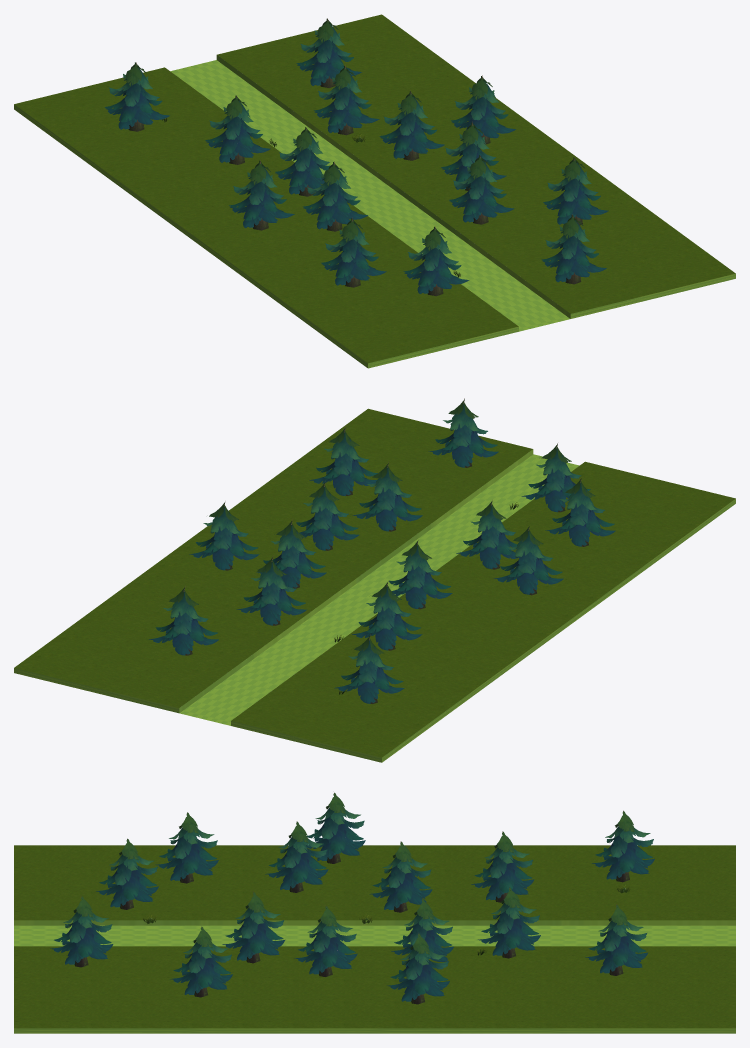
3 renders of one model, top to bottom at view 1: azimuth 30°, elevation 25°; view 2: azimuth 150°, elevation 25°; view 3: azimuth 270°, elevation 25°, orthographic.
Visible parts, largest first — view 1: Box001, Group001, ZJZ_SongShu_007, ZJZ_SongShu_014, ZJZ_SongShu_01, ZJZ_SongShu_009, ZJZ_SongShu_002, ZJZ_SongShu_011, ZJZ_SongShu_012, ZJZ_SongShu_004, ZJZ_SongShu_008, ZJZ_SongShu_005 (+5 smaller); view 2: Box001, Group001, ZJZ_SongShu_014, ZJZ_SongShu_008, ZJZ_SongShu_007, ZJZ_SongShu_011, ZJZ_SongShu_01, ZJZ_SongShu_009, ZJZ_SongShu_015, ZJZ_SongShu_002, ZJZ_SongShu_013, ZJZ_SongShu_010 (+5 smaller); view 3: Box001, Group001, ZJZ_SongShu_006, ZJZ_SongShu_015, ZJZ_SongShu_01, ZJZ_SongShu_008, ZJZ_SongShu_012, ZJZ_SongShu_004, ZJZ_SongShu_013, ZJZ_SongShu_011, ZJZ_SongShu_014, ZJZ_SongShu_010 (+5 smaller).
Boxes of the visible parts, box(x1,y1,x2,y2) form: Box001: box(14, 14, 735, 368); Group001: box(126, 18, 584, 296); ZJZ_SongShu_007: box(449, 161, 514, 222); ZJZ_SongShu_014: box(104, 68, 169, 129); ZJZ_SongShu_01: box(314, 71, 379, 132); ZJZ_SongShu_009: box(229, 166, 294, 227); ZJZ_SongShu_002: box(205, 101, 270, 162); ZJZ_SongShu_011: box(541, 220, 606, 282); ZJZ_SongShu_012: box(403, 232, 469, 293); ZJZ_SongShu_004: box(303, 167, 367, 229); ZJZ_SongShu_008: box(321, 224, 386, 285); ZJZ_SongShu_005: box(379, 97, 444, 158); Box001: box(14, 408, 735, 762); Group001: box(169, 398, 595, 703); ZJZ_SongShu_014: box(334, 640, 404, 703); ZJZ_SongShu_008: box(545, 483, 615, 546); ZJZ_SongShu_007: box(352, 468, 422, 531); ZJZ_SongShu_011: box(428, 404, 498, 467); ZJZ_SongShu_01: box(236, 562, 306, 625); ZJZ_SongShu_009: box(493, 531, 563, 594); ZJZ_SongShu_015: box(189, 507, 259, 570); ZJZ_SongShu_002: box(352, 587, 422, 650); ZJZ_SongShu_013: box(149, 592, 218, 655); ZJZ_SongShu_010: box(309, 432, 377, 496); Box001: box(14, 845, 735, 1033); Group001: box(73, 792, 634, 1004); ZJZ_SongShu_006: box(294, 921, 357, 974); ZJZ_SongShu_015: box(387, 948, 449, 1001); ZJZ_SongShu_01: box(478, 902, 540, 955); ZJZ_SongShu_008: box(155, 827, 218, 880); ZJZ_SongShu_012: box(96, 854, 158, 907); ZJZ_SongShu_004: box(265, 837, 328, 889); ZJZ_SongShu_013: box(585, 920, 647, 973); ZJZ_SongShu_011: box(50, 911, 113, 964); ZJZ_SongShu_014: box(592, 826, 654, 879); ZJZ_SongShu_010: box(170, 942, 232, 994).
Size of the model in its own units: 30000 by 50000 by 6412.
